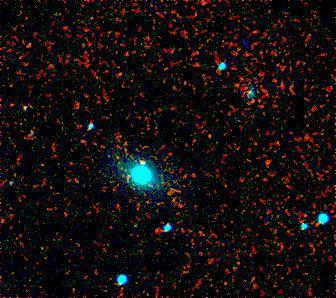star: (127, 147, 157, 177)
